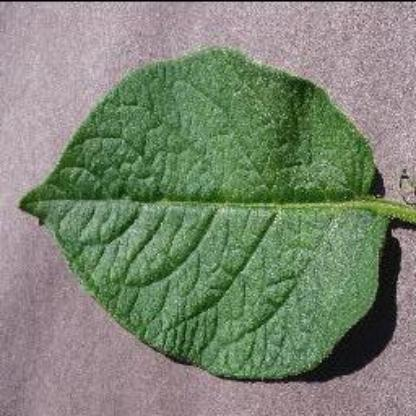Healthy-plant: (24, 37, 398, 403)
